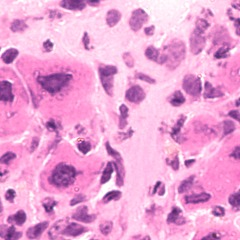New: (18, 52, 102, 126), (37, 138, 104, 194), (1, 65, 30, 141), (204, 130, 240, 191)
